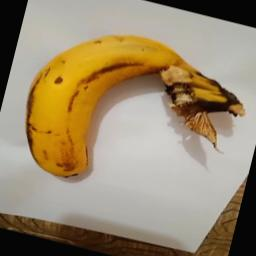Banana Unripe: (8, 10, 254, 217)
